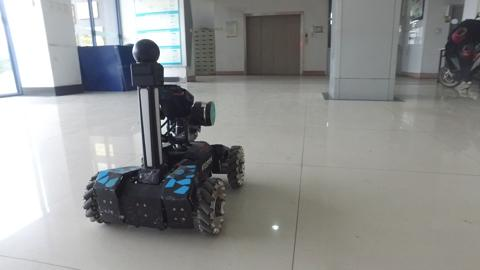chariot: (79, 32, 256, 243)
